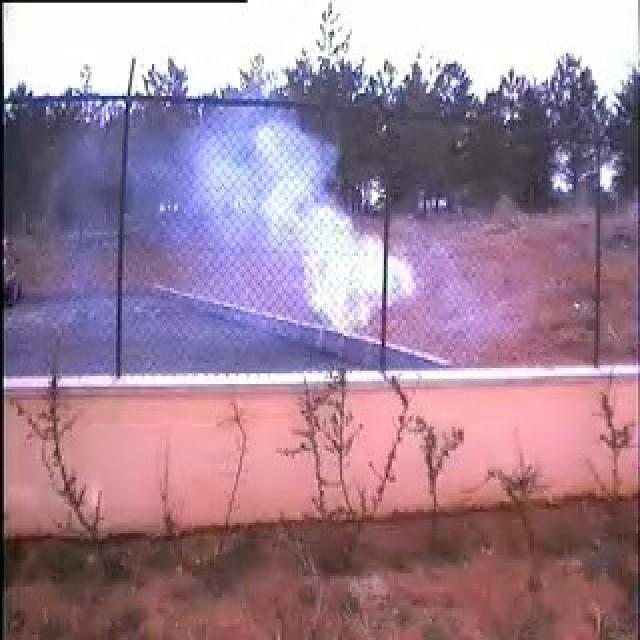smoke: (125, 93, 421, 362)
